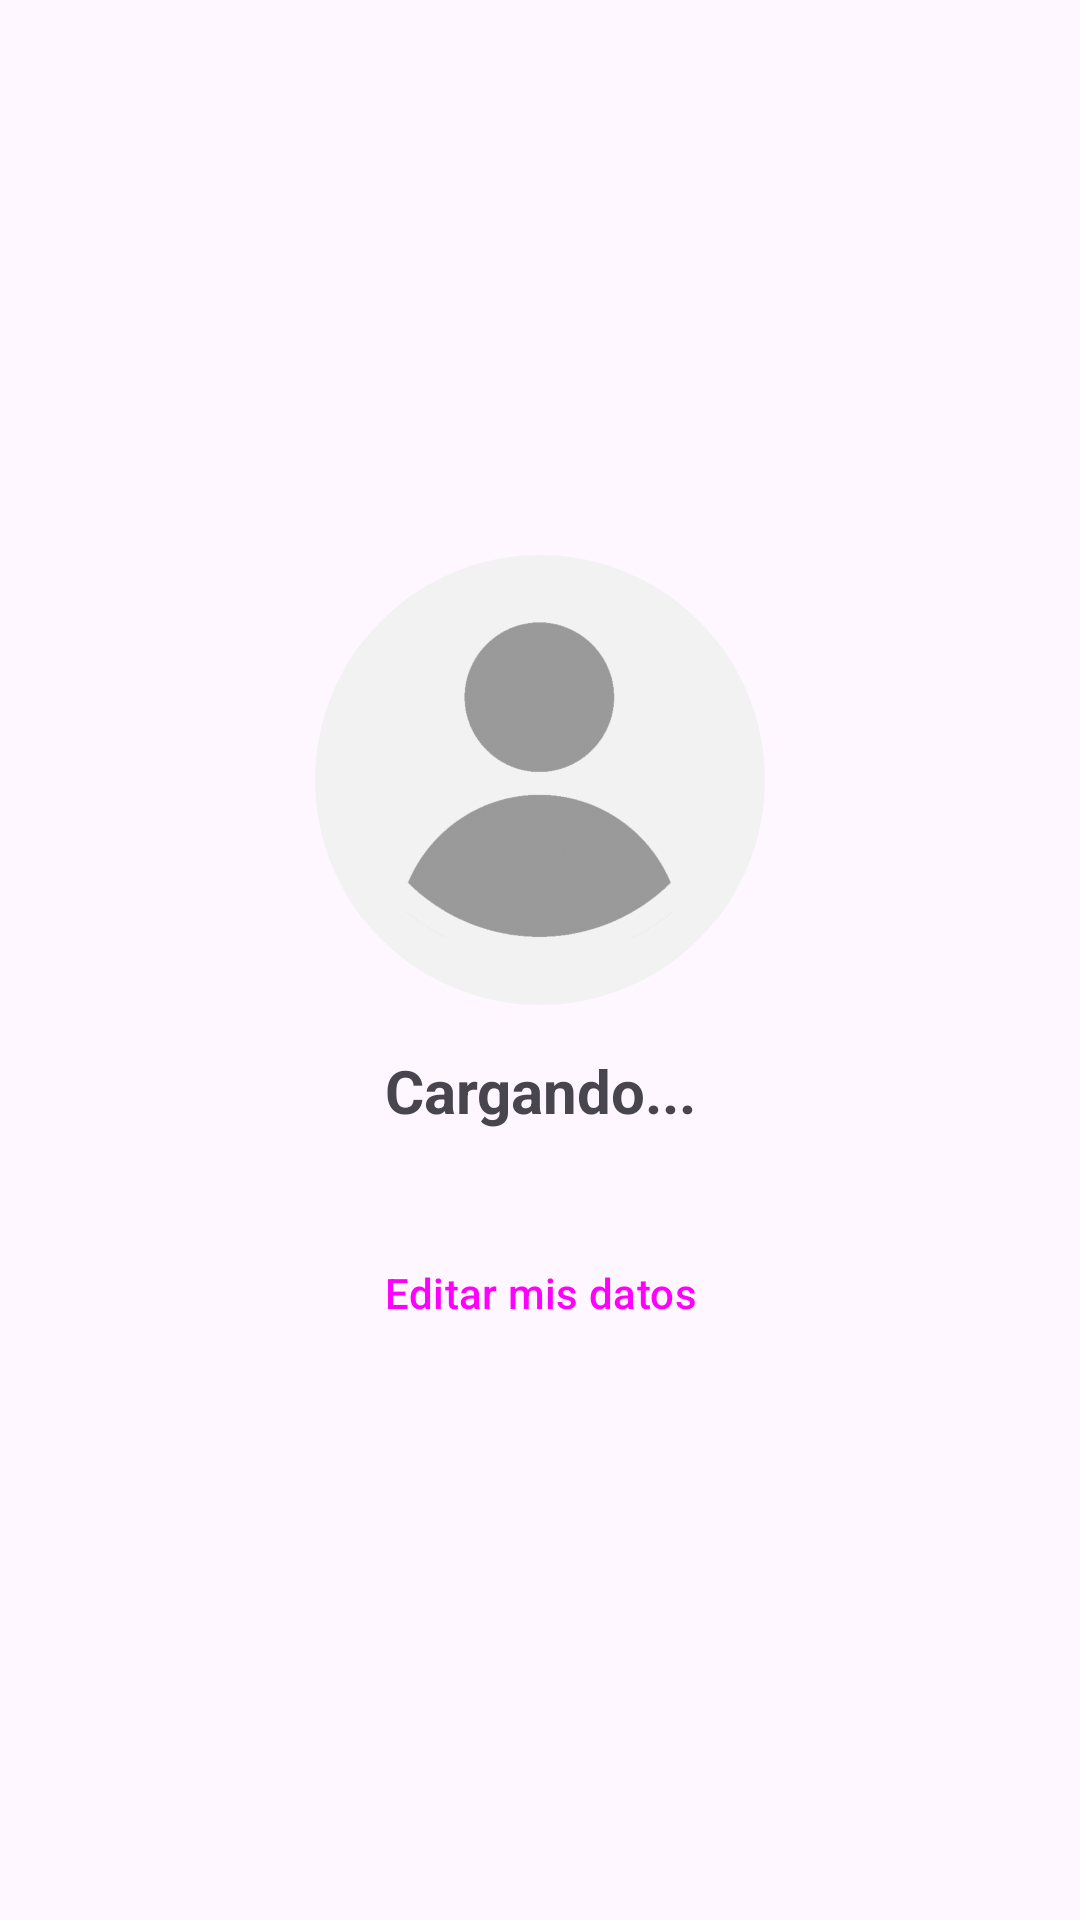

Named icons in this screenshot (1080 × 1920) and their centers, (x=x, y=y):
user: (x=539, y=779)
